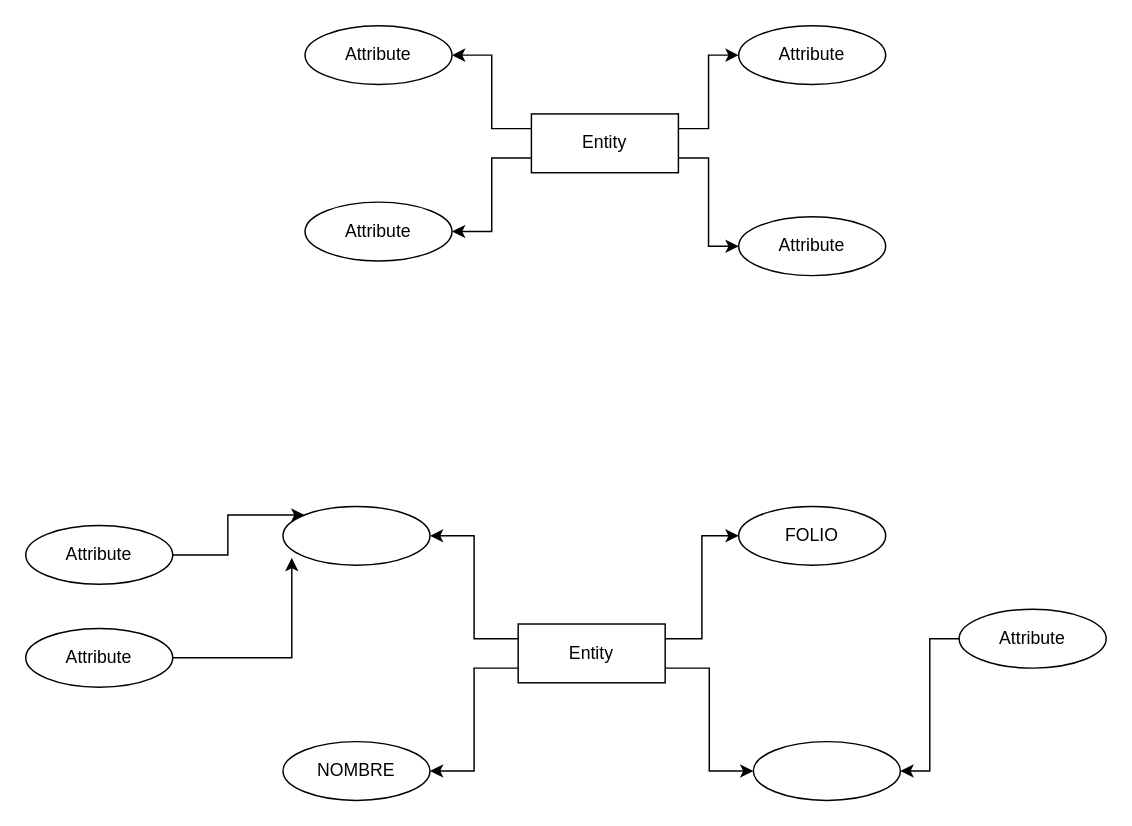
This 1132x826 diagram has some shape labels left out. Here are the shapes that lost their labels. From the top down, the centre of each, then its label:
At point 356,535: "N°PRACTICA".
At point 826,770: "FECHA".
